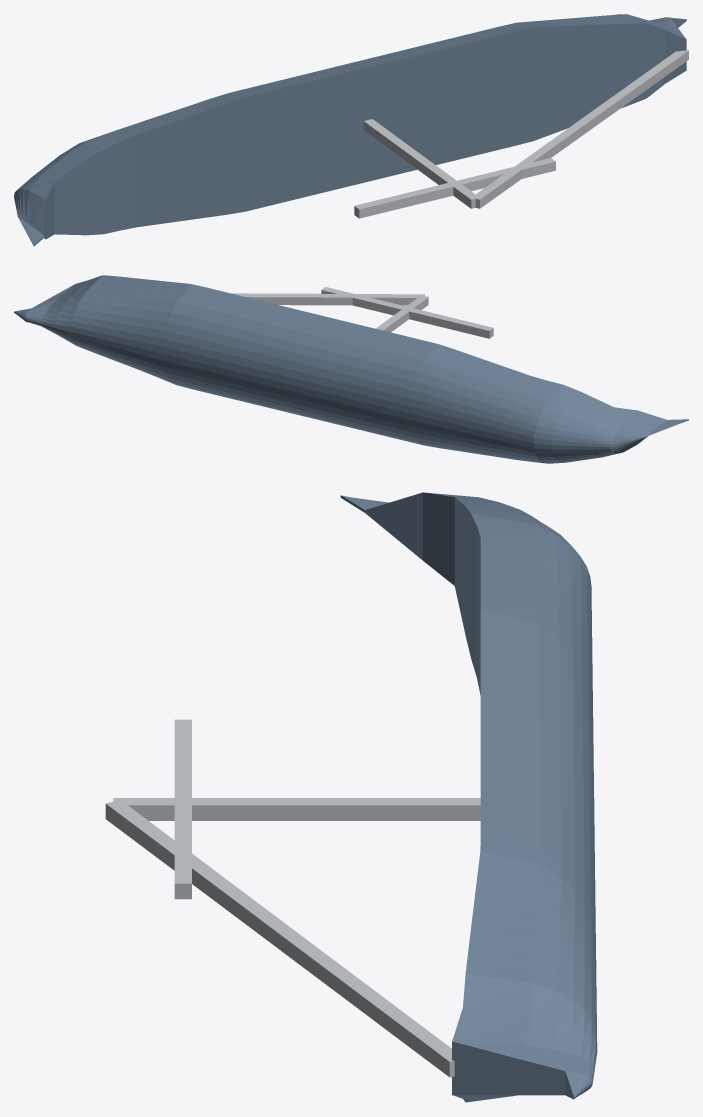
The model's file is loft-trireme.glb.
3 renders of one model, top to bottom at view 1: azimuth 30°, elevation 25°; view 2: azimuth 150°, elevation 25°; view 3: azimuth 270°, elevation 25°, orthographic. The views are drawn at different scales.
Parts seen in each view (by area): view 1: trireme; view 2: trireme; view 3: trireme.
Boxes of the visible parts, bbox=[...] form: trireme: bbox=[14, 14, 688, 246]; trireme: bbox=[14, 275, 688, 463]; trireme: bbox=[105, 492, 597, 1102].
Bounding box in the file's own units: 1.98 × 0.3 × 0.6834.
